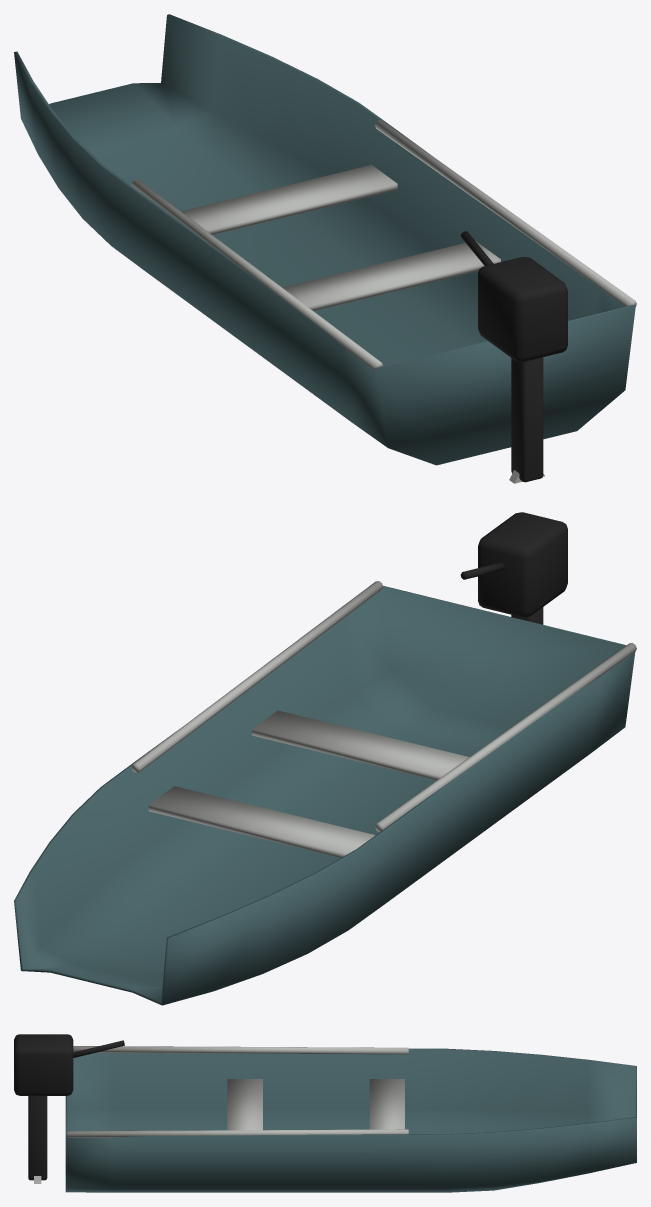
The model's file is skiff.glb.
3 views of the same model, one above another, from view 1: azimuth 30°, elevation 25°; view 2: azimuth 150°, elevation 25°; view 3: azimuth 270°, elevation 25° (orthographic). The views are drawn at different scales.
Parts seen in each view (by area): view 1: hull, cowl, seat.001, seat, shaft, gunwale, gunwale.001; view 2: hull, cowl, seat.001, seat, gunwale, gunwale.001; view 3: hull, cowl, gunwale.001, gunwale, seat, seat.001, shaft, tiller.
Part boxes in pixels (bbox=[...]): hull: bbox=[14, 14, 635, 465]; cowl: bbox=[478, 257, 567, 361]; seat.001: bbox=[181, 165, 397, 234]; seat: bbox=[282, 240, 500, 311]; shaft: bbox=[511, 357, 543, 482]; gunwale: bbox=[375, 120, 636, 306]; gunwale.001: bbox=[131, 179, 382, 370]; hull: bbox=[14, 586, 635, 1005]; cowl: bbox=[478, 512, 567, 617]; seat.001: bbox=[148, 786, 375, 857]; seat: bbox=[252, 710, 469, 780]; gunwale: bbox=[131, 581, 383, 772]; gunwale.001: bbox=[375, 643, 636, 832]; hull: bbox=[65, 1048, 636, 1192]; cowl: bbox=[14, 1034, 73, 1095]; gunwale.001: bbox=[73, 1046, 408, 1054]; gunwale: bbox=[67, 1129, 408, 1137]; seat: bbox=[227, 1079, 262, 1130]; seat.001: bbox=[369, 1079, 404, 1129]; shaft: bbox=[28, 1096, 47, 1180]; tiller: bbox=[73, 1040, 124, 1057].
Bounding box in the file's own units: 1.76 × 1.29 × 5.26.
